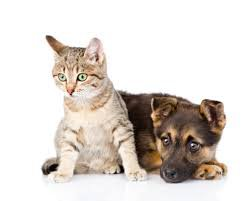cat: (39, 28, 151, 184)
dog: (103, 77, 233, 185)
